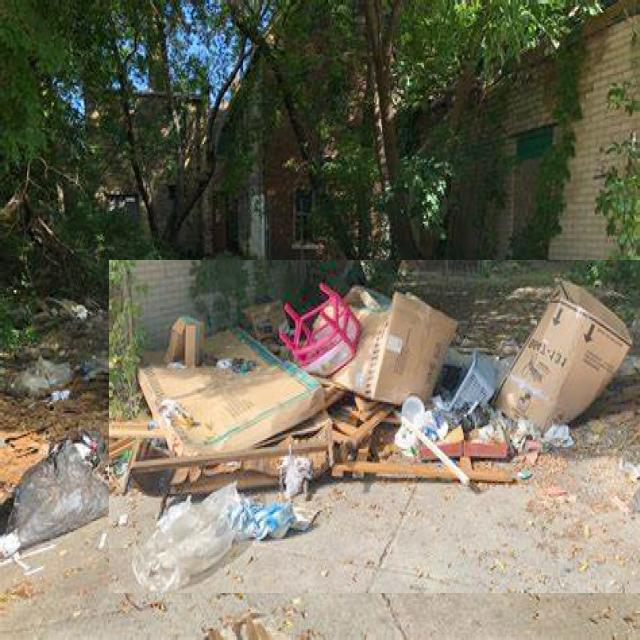dumping: (109, 260, 640, 593)
